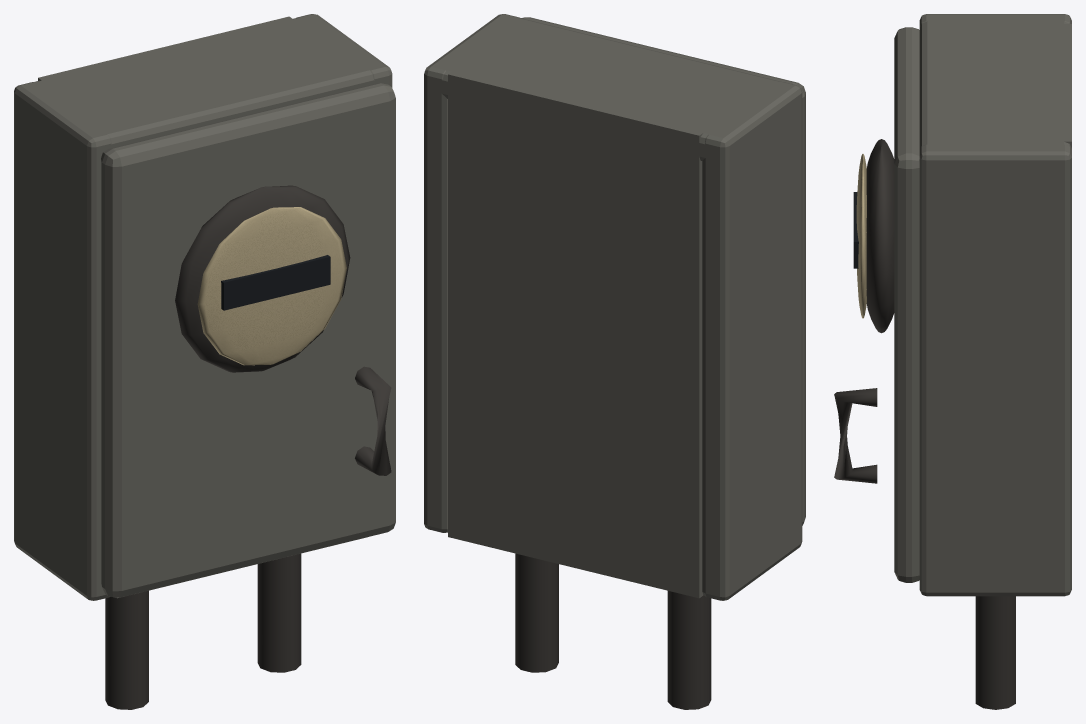
File: MS_SP_17_ElectricalMeterBox.glb
3 views of the same model, side by side, from view 1: azimuth 30°, elevation 25°; view 2: azimuth 150°, elevation 25°; view 3: azimuth 270°, elevation 25° (orthographic). The views are drawn at different scales.
Parts seen in each view (by area): view 1: Door.001, Back.002, MeterFace, Conduit, Handle, Reading; view 2: Back.002, Conduit, Door.001; view 3: Back.002, Door.001, Handle, Conduit, MeterFace.
Boxes of the visible parts, <box> form: Door.001: <box>101,83,395,597</box>; Back.002: <box>14,14,392,600</box>; MeterFace: <box>197,207,346,365</box>; Conduit: <box>105,553,301,709</box>; Handle: <box>175,185,391,475</box>; Reading: <box>221,255,330,310</box>; Back.002: <box>424,14,802,600</box>; Conduit: <box>515,553,711,709</box>; Door.001: <box>521,17,805,525</box>; Back.002: <box>919,14,1071,596</box>; Door.001: <box>894,27,919,582</box>; Handle: <box>834,139,894,483</box>; Conduit: <box>975,596,1015,709</box>; MeterFace: <box>856,154,866,318</box>.
Bounding box in the file's own units: 0.4 × 0.76 × 0.2811.
4 materials, 1 textured.
